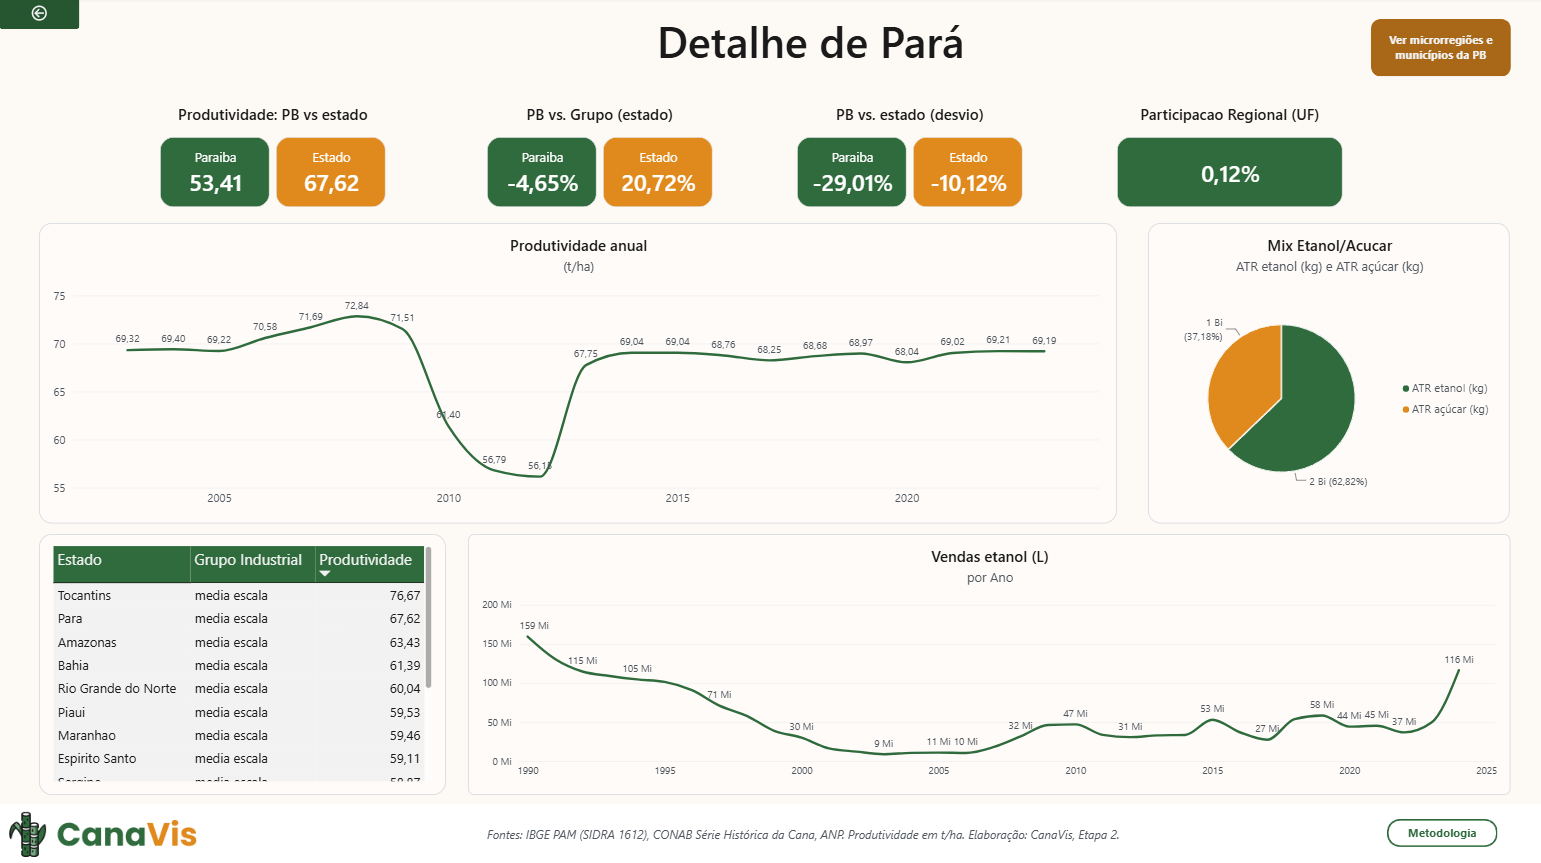

Layout of this report page (visuals, bound fields, positions):
{"tool":"powerbi","page":{"name":"Detalhe do estado","canvas":[1920,1080],"ordinal":1},"visuals":[{"type":"lineChart","title":"Produtividade anual","fields":{"Category":["dim_calendario.ano"],"Y":["fato_producao.Produtividade"]},"box":[49.6,280.1,1337.9,373.5],"z":0},{"type":"pieChart","title":"Mix Etanol/Acucar","fields":{"Y":["fato_industria.ATR equivalente etanol (kg)","fato_industria.ATR equivalente açúcar (kg)"]},"box":[1426.9,280.1,449.4,373.5],"z":1000},{"type":"cardVisual","title":"Produtividade: PB vs estado","fields":{"Data":["fato_producao_uf.Produtividade PB (UF)","fato_producao_uf.Produtividade (UF)"]},"box":[199.9,132.8,280.1,128.4],"z":2000},{"type":"cardVisual","title":"Participacao Regional (UF)","fields":{"Data":["fato_producao.Participação regional"]},"box":[1387.5,132.8,280.1,128.4],"z":3000},{"type":"cardVisual","title":"PB vs. Grupo (estado)","fields":{"Data":["fato_producao_uf.Desvio PB vs pares","fato_producao_uf.Desvio vs grupo (UF)"]},"box":[605.5,132.8,280.1,128.4],"z":4000},{"type":"cardVisual","title":"PB vs. estado (desvio)","fields":{"Data":["fato_producao_uf.Desvio PB vs nível","fato_producao_uf.Desvio vs seleção (UF)"]},"box":[990.6,132.8,280.1,128.4],"z":5000},{"type":"actionButton","box":[1703.7,27,173.6,71.5],"z":6000},{"type":"tableEx","fields":{"Values":["UF_Ranking.nome_territorio_sem_acento","dim_territorio.tier","Referencia de comparacao.Produtividade_Ranking"]},"box":[49.6,666.7,504.8,323.9],"z":7000},{"type":"lineChart","fields":{"Category":["dim_calendario.ano"],"Y":["fato_vendas_etanol_uf.Vendas etanol UF (L)"]},"box":[582.1,666.7,1294.1,323.9],"z":8000},{"type":"actionButton","box":[0,0,100,40],"z":9000},{"type":"cardVisual","fields":{"Data":["Referencia de comparacao.Título Estado"]},"box":[409.3,9.3,1196,86.7],"z":10000},{"type":"textbox","box":[605.5,1028.6,838.9,35],"z":11000},{"type":"actionButton","box":[1722.7,1020,137.3,34.7],"z":12000}]}

Visuals, with their boxes in screenshot pixels (x1, y1, x2, y2), scaled from the page's 1920x1080 canvas onto the 1541x863 screenshot:
"Produtividade anual" lineChart: [40,224,1114,522]
"Mix Etanol/Acucar" pieChart: [1145,224,1506,522]
"Produtividade: PB vs estado" cardVisual: [160,106,385,209]
"Participacao Regional (UF)" cardVisual: [1114,106,1338,209]
"PB vs. Grupo (estado)" cardVisual: [486,106,711,209]
"PB vs. estado (desvio)" cardVisual: [795,106,1020,209]
actionButton: [1367,22,1507,79]
tableEx - UF_Ranking.nome_territorio_sem_acento x dim_territorio.tier: [40,533,445,792]
lineChart - dim_calendario.ano x fato_vendas_etanol_uf.Vendas etanol UF (L): [467,533,1506,792]
actionButton: [0,0,80,32]
cardVisual - Referencia de comparacao.Título Estado: [329,7,1288,77]
textbox: [486,822,1159,850]
actionButton: [1383,815,1493,843]
